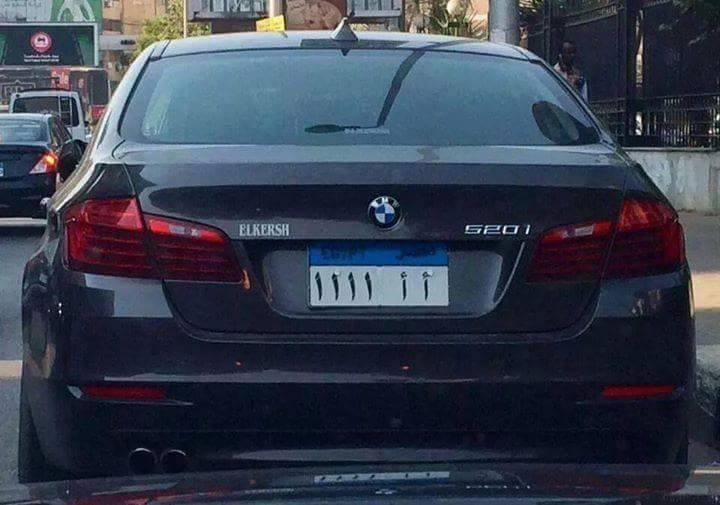1: (361, 270, 378, 305), (312, 270, 326, 303), (346, 270, 358, 302), (330, 271, 340, 301)
License Plate: (306, 242, 453, 309)
alef: (397, 269, 409, 304), (421, 269, 433, 303)
car: (23, 37, 694, 467), (1, 116, 67, 217), (14, 91, 78, 120)
